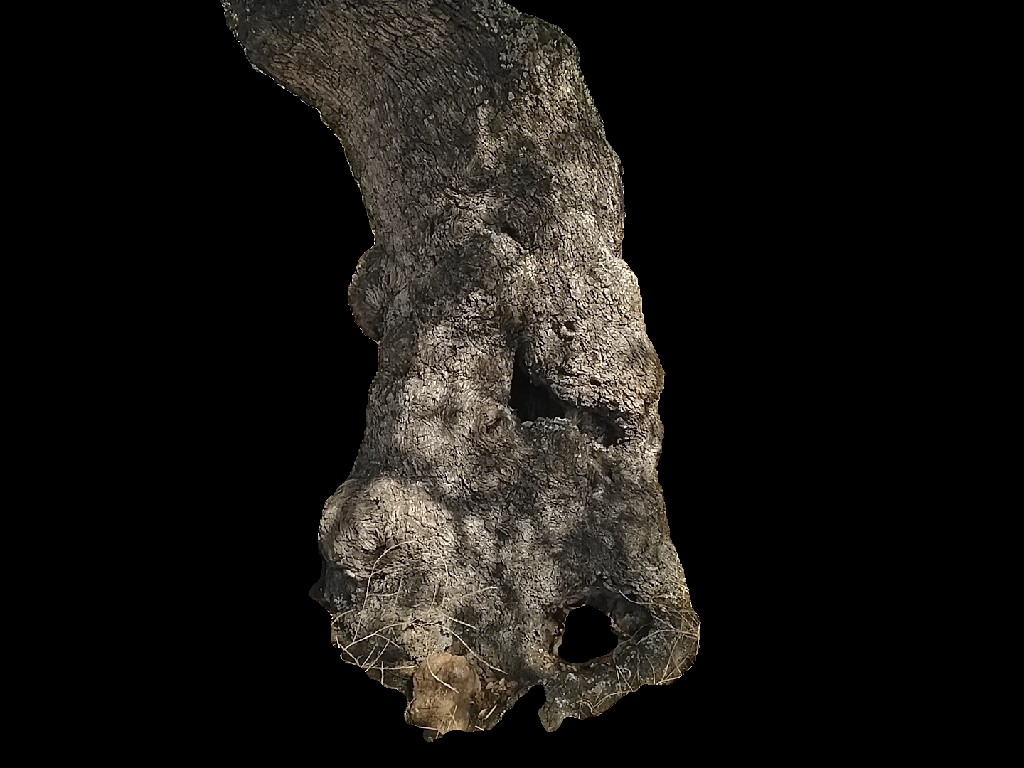Hole: (558, 605, 618, 663), (508, 351, 556, 423), (602, 423, 620, 447), (501, 225, 515, 239)
Injure: (349, 245, 385, 343)
